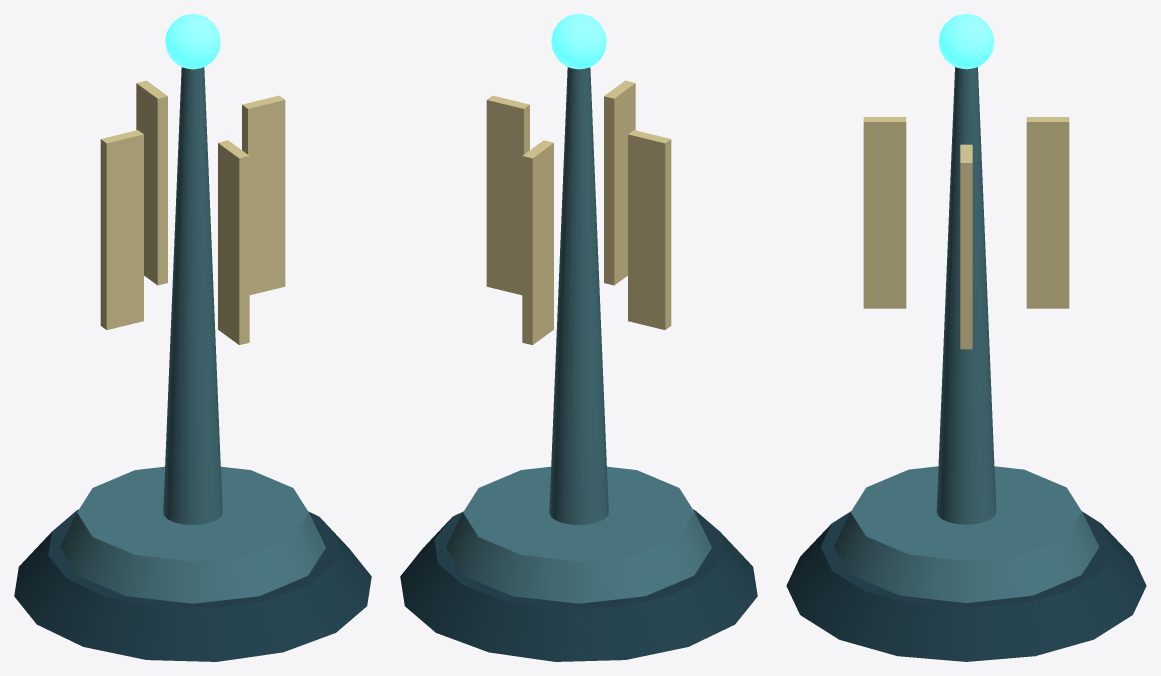
File: pelagic_high_pressure--command_relay.glb
3 views of the same model, side by side, from view 1: azimuth 30°, elevation 25°; view 2: azimuth 150°, elevation 25°; view 3: azimuth 270°, elevation 25° (orthographic).
Visible parts, largest first — view 1: rotation_bearing_2, mount_adapter_1, relay_mast_3, relay_vane_6, relay_vane_4, relay_vane_5, relay_vane_7, signal_tip_8; view 2: rotation_bearing_2, mount_adapter_1, relay_mast_3, relay_vane_6, relay_vane_4, relay_vane_7, relay_vane_5, signal_tip_8; view 3: rotation_bearing_2, mount_adapter_1, relay_mast_3, relay_vane_5, relay_vane_7, relay_vane_4, signal_tip_8.
Boxes of the visible parts, x1,y1,x2,y2 form: rotation_bearing_2: (60, 466, 325, 603); mount_adapter_1: (14, 509, 371, 661); relay_mast_3: (163, 67, 222, 524); relay_vane_6: (100, 130, 143, 329); relay_vane_4: (242, 95, 285, 295); relay_vane_5: (218, 140, 249, 344); relay_vane_7: (136, 80, 167, 285); signal_tip_8: (165, 14, 220, 69); rotation_bearing_2: (446, 466, 711, 603); mount_adapter_1: (400, 509, 757, 661); relay_mast_3: (549, 67, 608, 524); relay_vane_6: (628, 130, 671, 329); relay_vane_4: (486, 95, 529, 295); relay_vane_7: (522, 140, 553, 344); relay_vane_5: (604, 80, 635, 285); signal_tip_8: (551, 14, 606, 69); rotation_bearing_2: (833, 466, 1099, 602); mount_adapter_1: (786, 511, 1146, 661); relay_mast_3: (936, 67, 996, 524); relay_vane_5: (863, 117, 906, 308); relay_vane_7: (1026, 117, 1069, 308); relay_vane_4: (960, 144, 972, 349); signal_tip_8: (938, 14, 994, 69).
Bounding box in the file's own units: 5.04 × 8.79 × 5.04.
